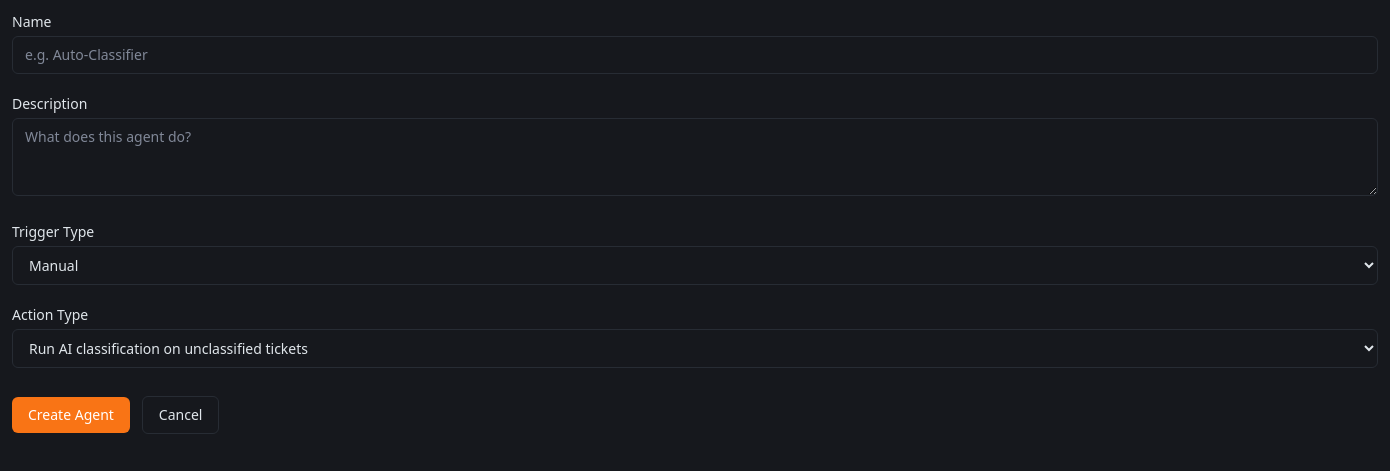
Scenario: AgentForm › shows validation error when name is empty on submit
The image size is (1390, 471).
Click the button with test id "agent-submit-btn": (71,415) [12,397,130,433]
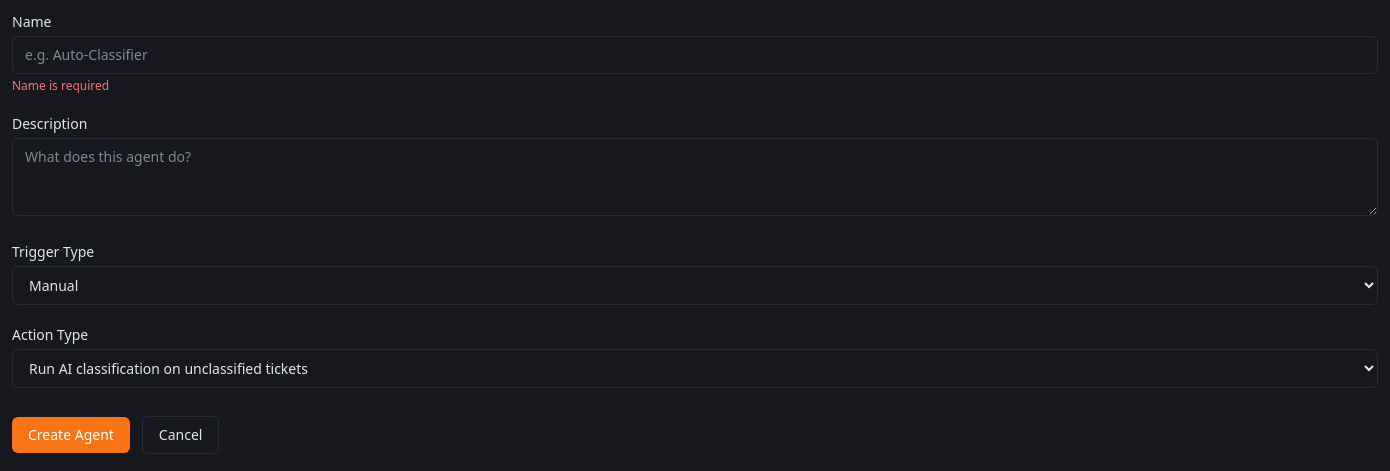
expect the text "Name is required" is shown: met, box [12,77,109,94]
